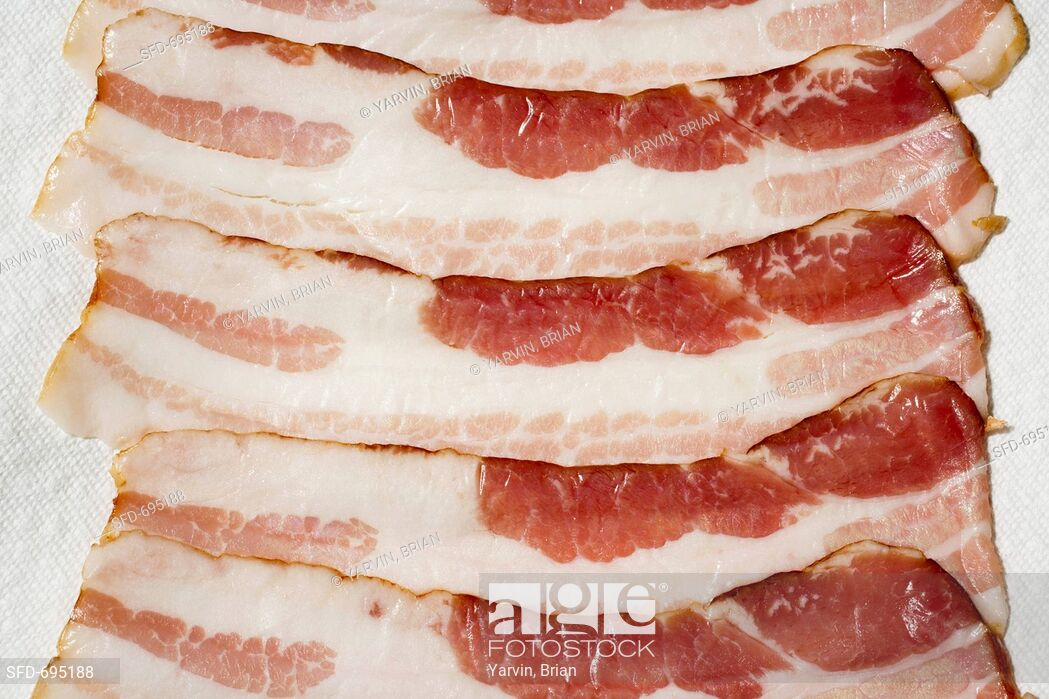bacon: (118, 12, 977, 671)
